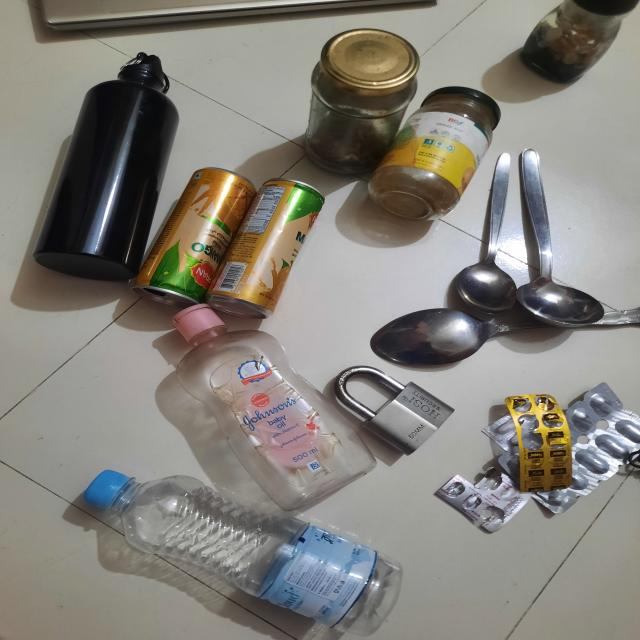Glass: (312, 99, 476, 202)
Medical Waste: (441, 388, 640, 549)
Metal: (378, 279, 622, 365), (329, 364, 461, 466), (480, 146, 575, 280)
Plastics: (68, 326, 336, 640)
can: (36, 44, 194, 283), (171, 157, 313, 306), (328, 22, 431, 94)
